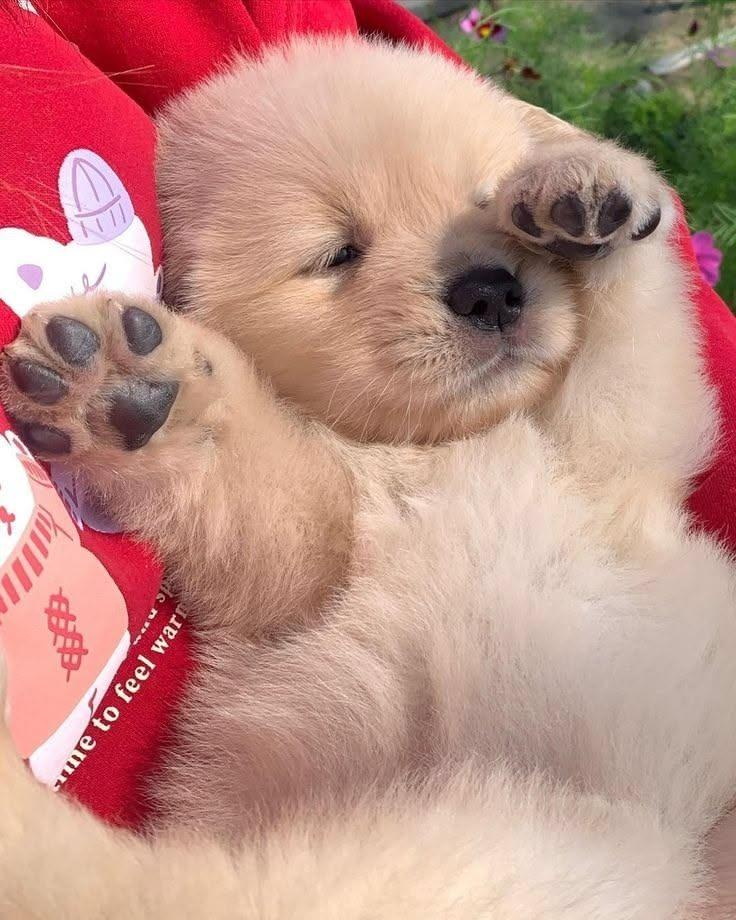puppy-dog: (0, 31, 736, 920)
